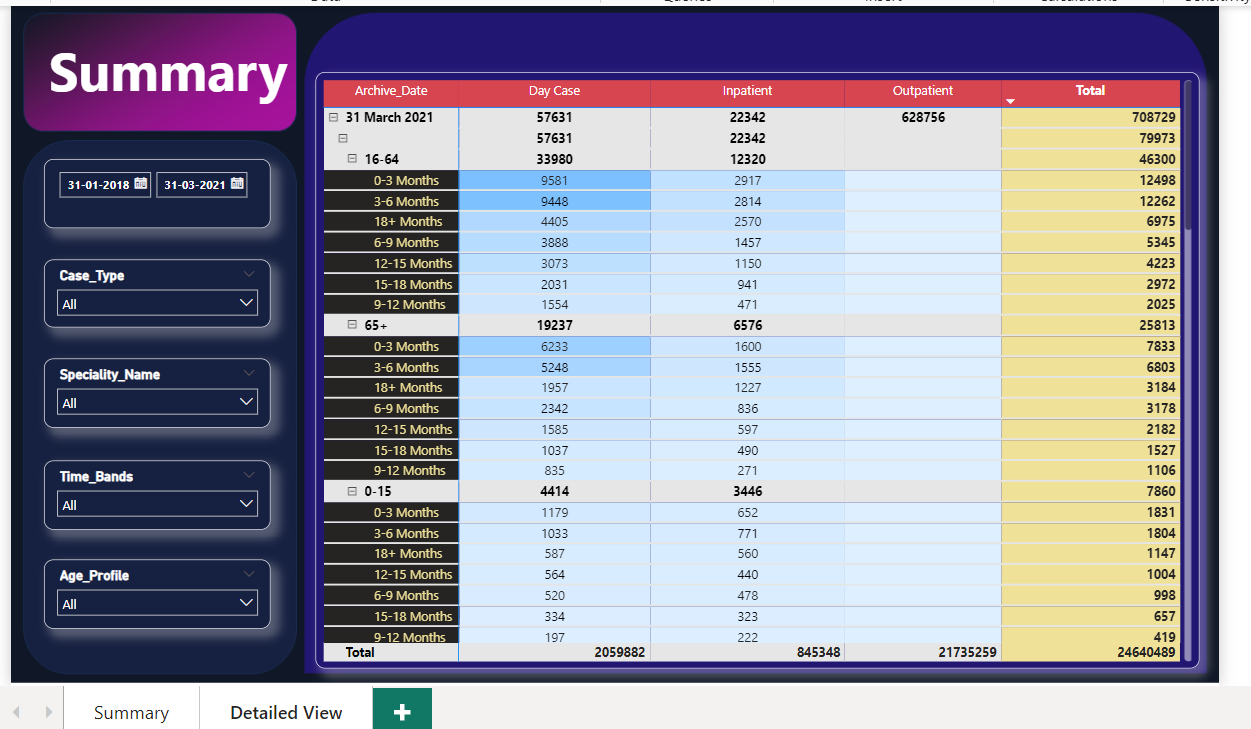

The page's visual inventory and layout, read from the dashboard file:
{"tool":"powerbi","page":{"name":"Detailed View","canvas":[1280,720],"ordinal":1},"visuals":[{"type":"slicer","fields":{"Values":["All_Data.Archive_Date"]},"box":[35,161.7,240,73.3],"z":0},{"type":"slicer","fields":{"Values":["All_Data.Case_Type"]},"box":[35,268.3,240,71.7],"z":1000},{"type":"slicer","fields":{"Values":["All_Data.Speciality_Name"]},"box":[35,373.3,240,73.3],"z":2000},{"type":"textbox","box":[35,23.3,268.3,93.3],"z":3000},{"type":"slicer","fields":{"Values":["All_Data.Age_Profile"]},"box":[35,586.7,240,73.3],"z":4000},{"type":"slicer","fields":{"Values":["All_Data.Time_Bands"]},"box":[35,481.7,240,73.3],"z":5000},{"type":"pivotTable","fields":{"Rows":["All_Data.Archive_Date","All_Data.Speciality_Name","All_Data.Age_Profile","All_Data.Time_Bands"],"Columns":["All_Data.Case_Type"],"Values":["Sum(All_Data.Total)"]},"box":[323.3,70,936.7,631.7],"z":6000}]}

Visuals, with their boxes on the page's 1280x720 design canvas (x1, y1, x2, y2). These are canvas units, not pixel positions in the 1251x729 screenshot, which may show the page scaled, cropped or inside an application window:
slicer - All_Data.Archive_Date: [left=35, top=162, right=275, bottom=235]
slicer - All_Data.Case_Type: [left=35, top=268, right=275, bottom=340]
slicer - All_Data.Speciality_Name: [left=35, top=373, right=275, bottom=447]
textbox: [left=35, top=23, right=303, bottom=117]
slicer - All_Data.Age_Profile: [left=35, top=587, right=275, bottom=660]
slicer - All_Data.Time_Bands: [left=35, top=482, right=275, bottom=555]
pivotTable - All_Data.Archive_Date x All_Data.Speciality_Name: [left=323, top=70, right=1260, bottom=702]
